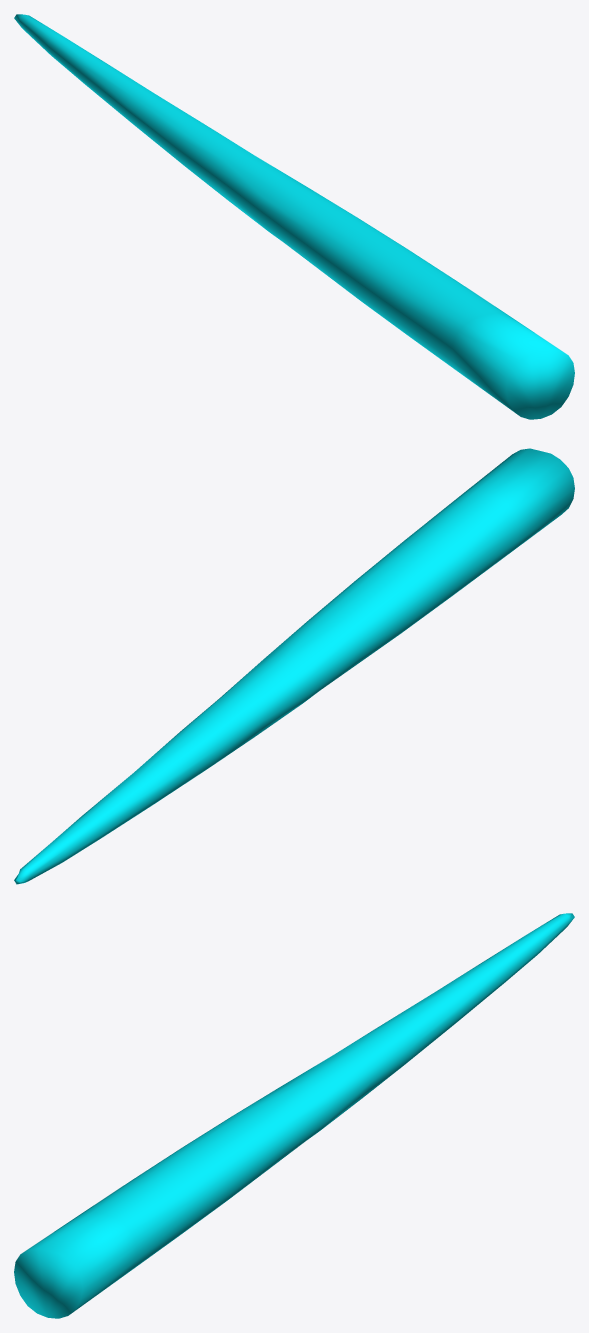
Rendered from snake3.obj.
3 renders of one model, top to bottom at view 1: azimuth 30°, elevation 25°; view 2: azimuth 150°, elevation 25°; view 3: azimuth 330°, elevation 25°, orthographic.
Parts seen in each view (by area): view 1: COBRA.001; view 2: COBRA.001; view 3: COBRA.001.
Part boxes in pixels (bbox=[...]): COBRA.001: bbox=[14, 14, 574, 419]; COBRA.001: bbox=[14, 448, 574, 884]; COBRA.001: bbox=[14, 913, 574, 1318].
Bounding box in the file's own units: 0.0405 × 0.0382 × 0.5341.
1 material, 1 textured.
